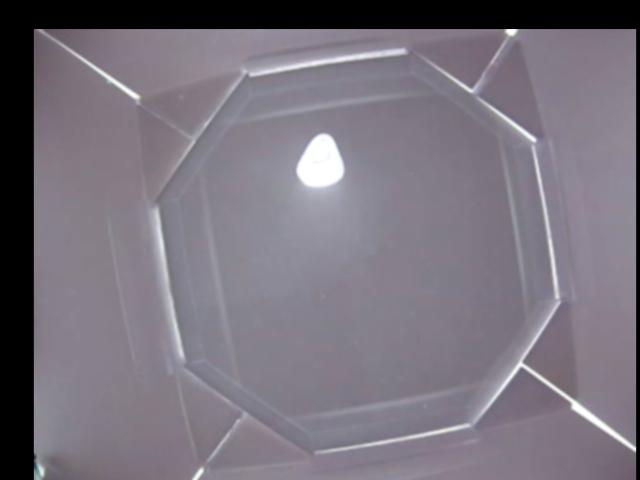Pebble: (292, 129, 342, 189)
